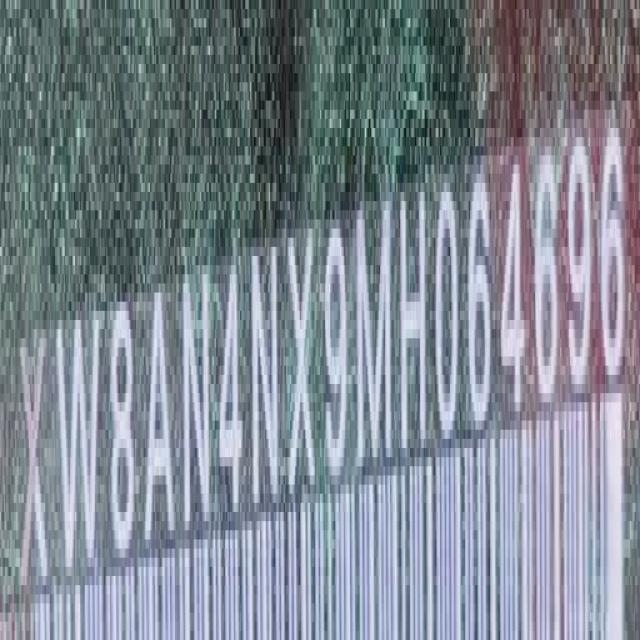0: (434, 171, 460, 446)
4: (499, 157, 529, 428), (215, 251, 244, 525)
6: (600, 120, 628, 384), (465, 162, 490, 436), (533, 136, 558, 407)
8: (111, 303, 137, 564)
9: (323, 212, 348, 494), (568, 134, 594, 399)
A: (141, 282, 172, 553)
H: (399, 183, 428, 463)
M: (358, 197, 394, 479)
N: (182, 264, 212, 540), (251, 240, 280, 518)
W: (61, 302, 100, 584)
X: (290, 226, 318, 504), (21, 327, 49, 601)
